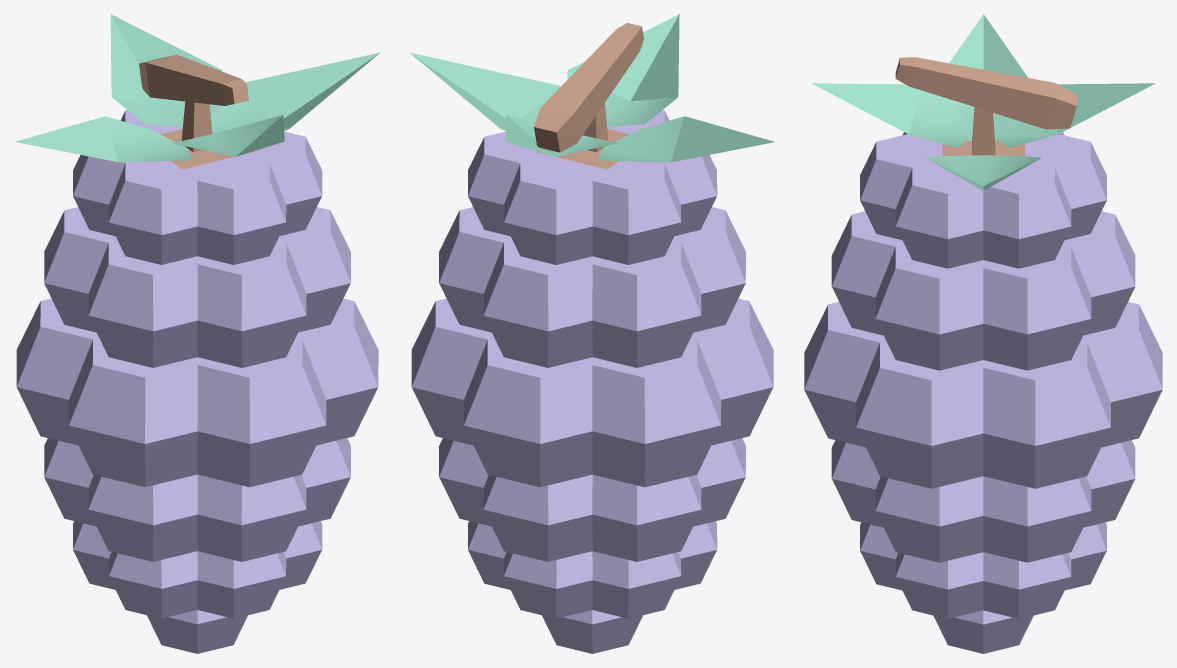
Rendered from grapes.glb.
3 renders of one model, left to right at view 1: azimuth 30°, elevation 25°; view 2: azimuth 150°, elevation 25°; view 3: azimuth 270°, elevation 25°, orthographic.
Visible parts, largest first — view 1: grapes; view 2: grapes; view 3: grapes.
Boxes of the visible parts, x1,y1,x2,y2 form: grapes: (14, 14, 379, 653); grapes: (410, 14, 774, 653); grapes: (804, 14, 1162, 653).
Size of the model in its own units: 0.279 by 0.4226 by 0.2387.
